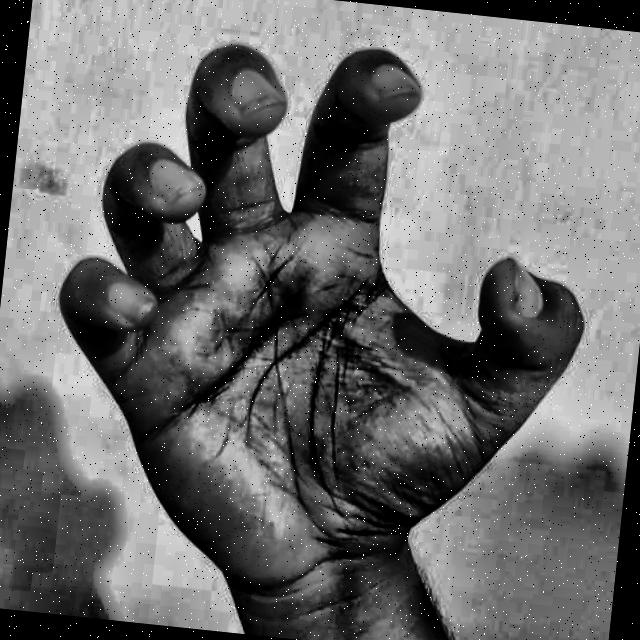Ja: (7, 0, 626, 640)
